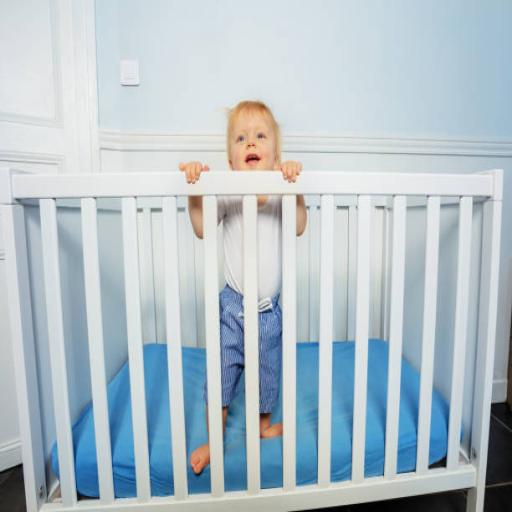baby: (258, 196, 282, 437)
crib: (0, 170, 502, 510)
